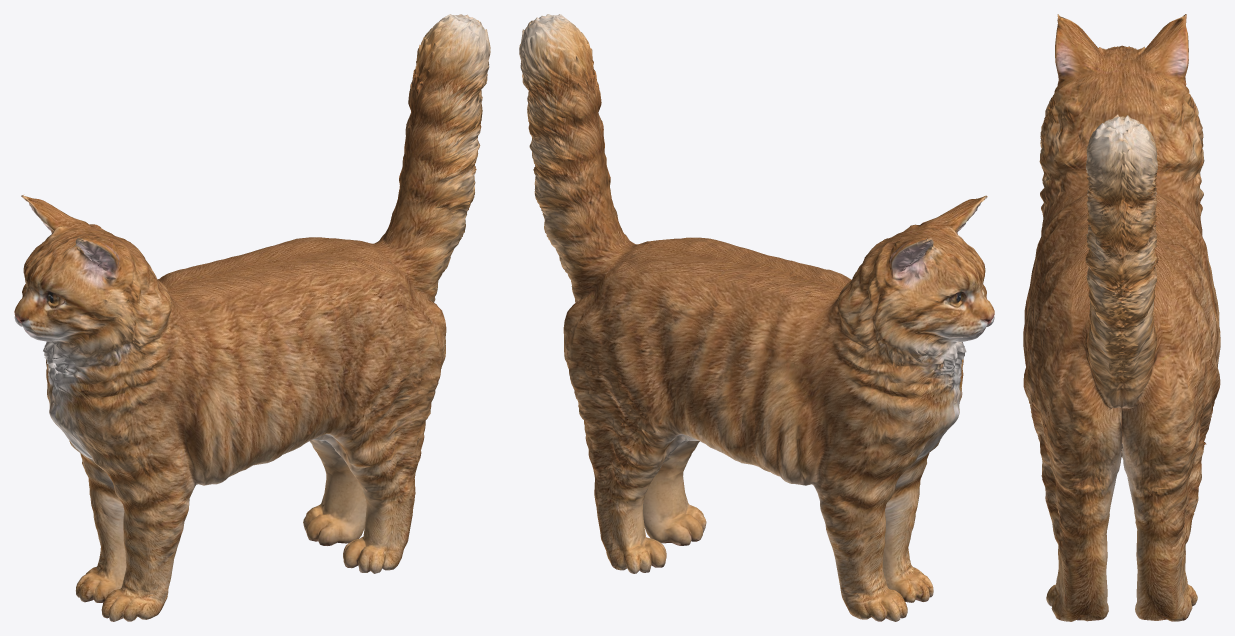
Rendered from DEWEYCAT.glb.
3 renders of one model, left to right at view 1: azimuth 30°, elevation 25°; view 2: azimuth 150°, elevation 25°; view 3: azimuth 270°, elevation 25°, orthographic. The views are drawn at different scales.
Visible parts, largest first — view 1: tripo_node_5b098a70-85f3-4202-aed0-aeabf092120e; view 2: tripo_node_5b098a70-85f3-4202-aed0-aeabf092120e; view 3: tripo_node_5b098a70-85f3-4202-aed0-aeabf092120e.
Part boxes in pixels (<box>): tripo_node_5b098a70-85f3-4202-aed0-aeabf092120e: <box>14,14,490,621</box>; tripo_node_5b098a70-85f3-4202-aed0-aeabf092120e: <box>519,14,994,621</box>; tripo_node_5b098a70-85f3-4202-aed0-aeabf092120e: <box>1023,14,1220,621</box>.
Size of the model in its own units: 0.9621 by 0.9999 by 0.3243.
Materials: 1 (1 with a texture image).
